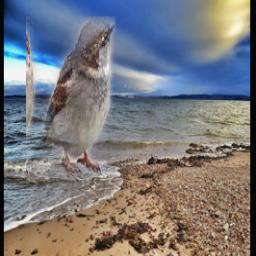Sparrow: (25, 18, 115, 175)
